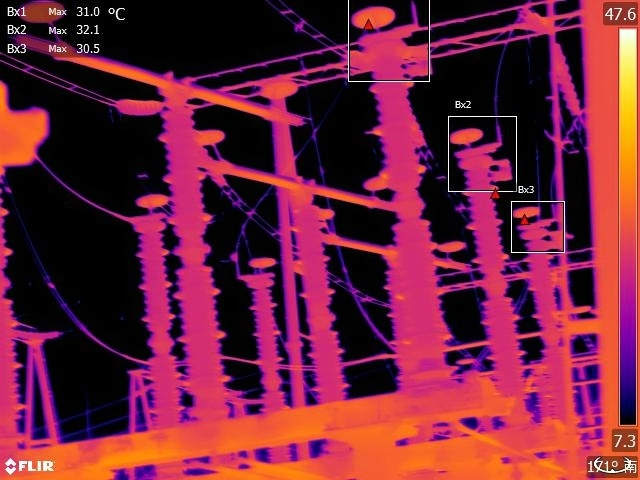insulator: (108, 88, 165, 120)
post insulator: (368, 69, 452, 384), (162, 103, 230, 424), (462, 154, 528, 394), (135, 217, 177, 429), (528, 239, 570, 423), (249, 273, 286, 404)
switch: (13, 1, 317, 130), (189, 125, 409, 216), (315, 209, 466, 272)
